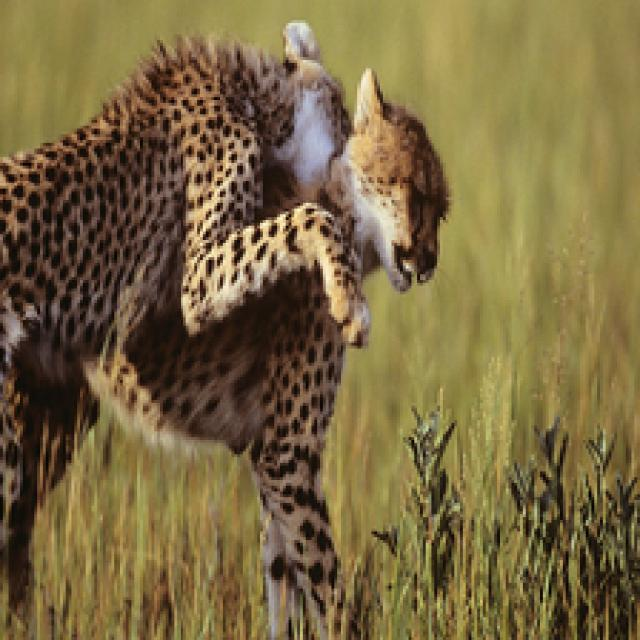cheetah: (2, 27, 456, 640)
